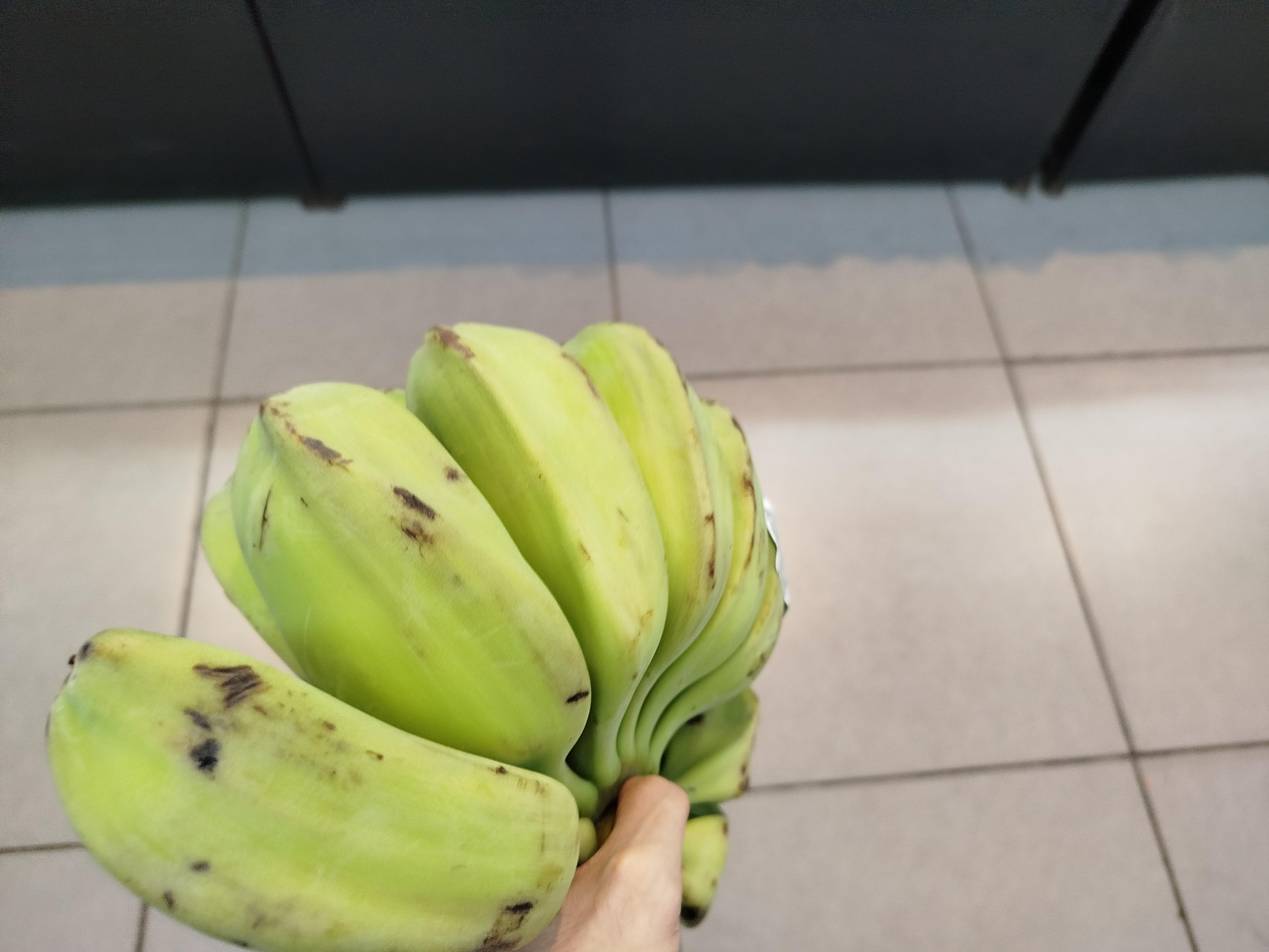underripe: (49, 323, 786, 949)
